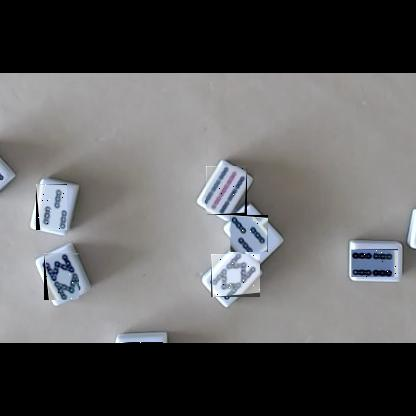3s: (36, 184, 67, 230), (230, 215, 268, 252), (120, 342, 163, 343)
4s: (351, 249, 398, 277)
8s: (211, 254, 260, 297), (44, 253, 79, 300)
9s: (206, 166, 247, 215)
